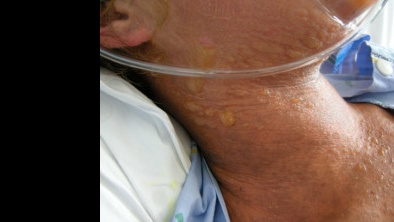SJS-TEN: (132, 2, 393, 221)
